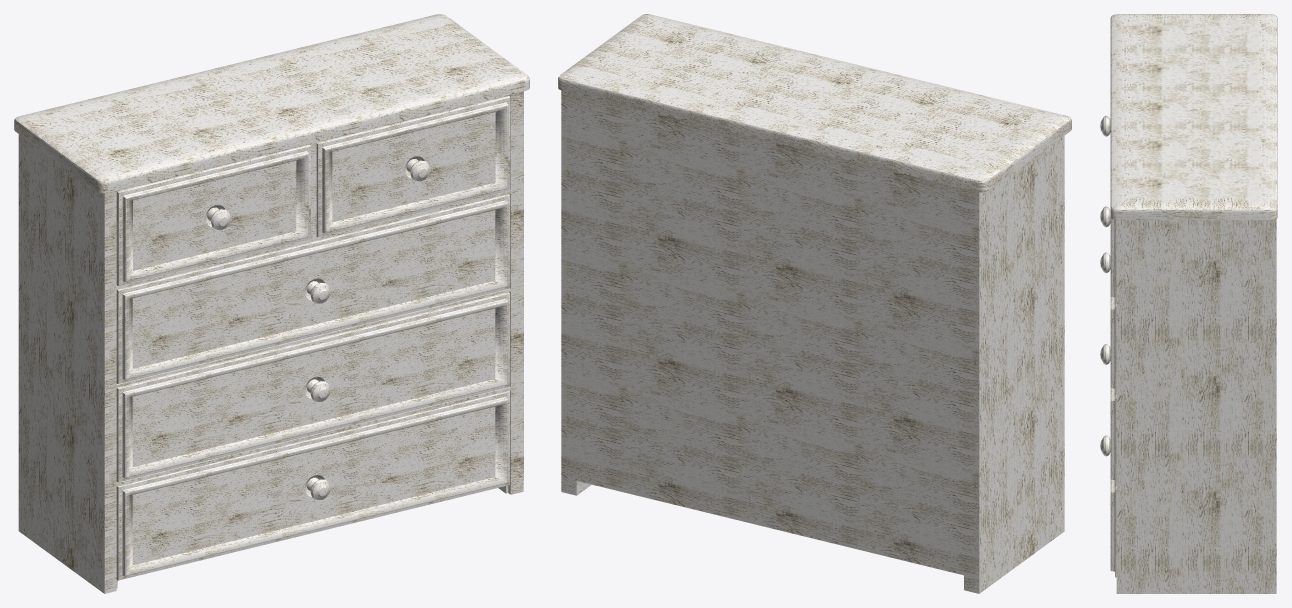
The model's file is SM_Drawers.fbx.
The picture shows the model from 3 angles, left to right: view 1: azimuth 30°, elevation 25°; view 2: azimuth 150°, elevation 25°; view 3: azimuth 270°, elevation 25°; orthographic projection. The views are drawn at different scales.
Parts seen in each view (by area): view 1: Box001, Sphere014, Sphere012, Sphere011, Sphere013, Sphere009, Sphere010; view 2: Box001, Sphere014; view 3: Box001, Sphere014, Sphere013, Sphere011, Sphere012, Sphere010.
Part boxes in pixels (x1,y1,x2,y2): Box001: [18, 91, 523, 593]; Sphere014: [14, 14, 529, 193]; Sphere012: [116, 292, 509, 482]; Sphere011: [116, 194, 509, 383]; Sphere013: [116, 391, 509, 580]; Sphere009: [116, 144, 310, 285]; Sphere010: [316, 96, 510, 237]; Box001: [561, 90, 1064, 593]; Sphere014: [558, 14, 1071, 192]; Box001: [1116, 219, 1276, 593]; Sphere014: [1110, 14, 1277, 220]; Sphere013: [1100, 435, 1116, 577]; Sphere011: [1100, 252, 1116, 394]; Sphere012: [1100, 344, 1116, 486]; Sphere010: [1100, 206, 1116, 303].
Bounding box in the file's own units: 52.75 × 48.78 × 20.18.
1 material, 1 textured.
